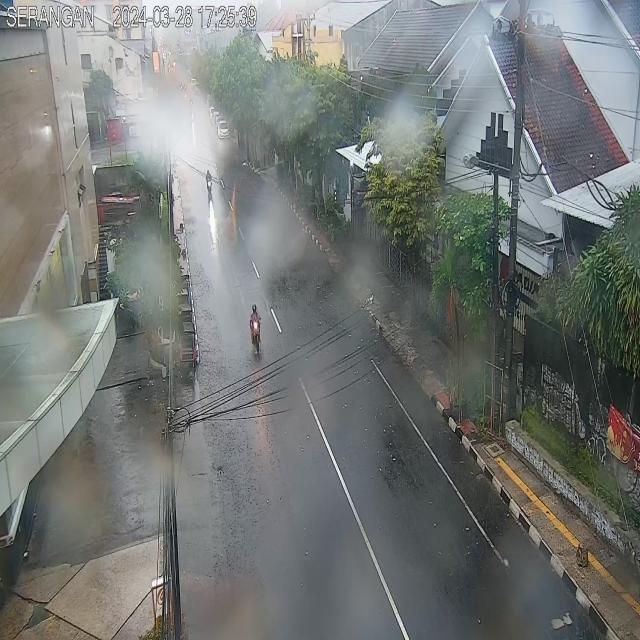car: (214, 115, 235, 144)
motorcycle: (245, 303, 268, 360), (204, 172, 218, 206)
